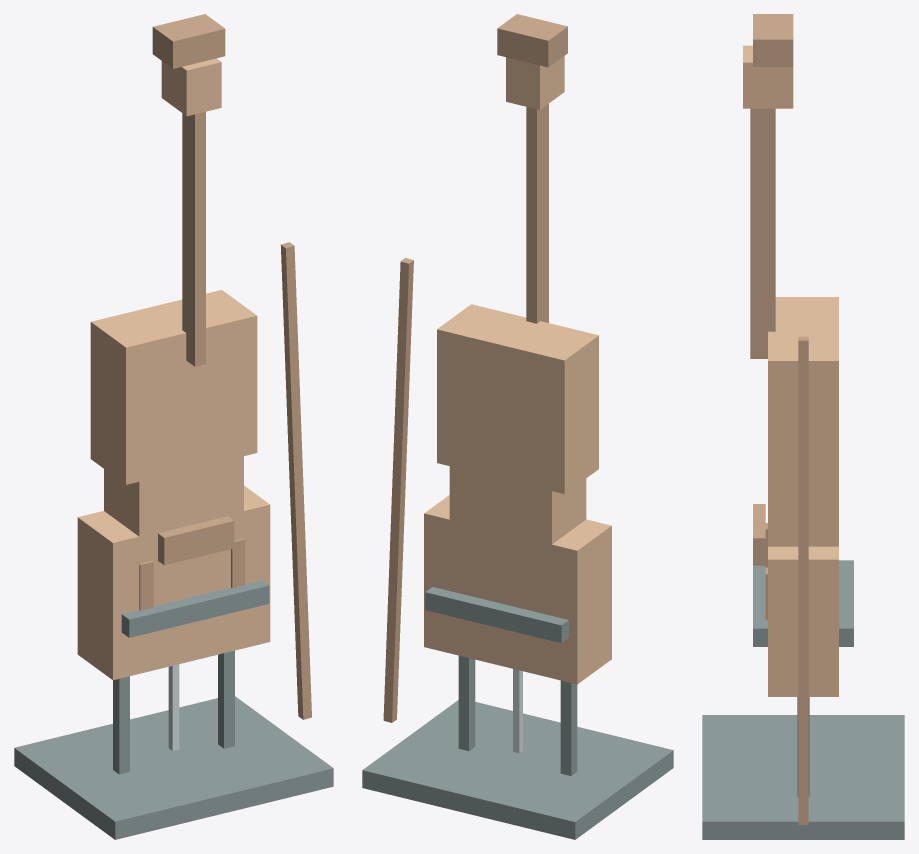
File: celloStand.glb
The picture shows the model from 3 angles, left to right: view 1: azimuth 30°, elevation 25°; view 2: azimuth 150°, elevation 25°; view 3: azimuth 270°, elevation 25°; orthographic projection. The views are drawn at different scales.
Parts seen in each view (by area): view 1: celloStand; view 2: celloStand; view 3: celloStand.
Boxes of the visible parts, x1=… form: celloStand: x1=14, y1=14, x2=333, y2=839; celloStand: x1=362, y1=14, x2=673, y2=839; celloStand: x1=702, y1=14, x2=904, y2=839.
Bounding box in the file's own units: 0.28 × 0.83 × 0.2.
